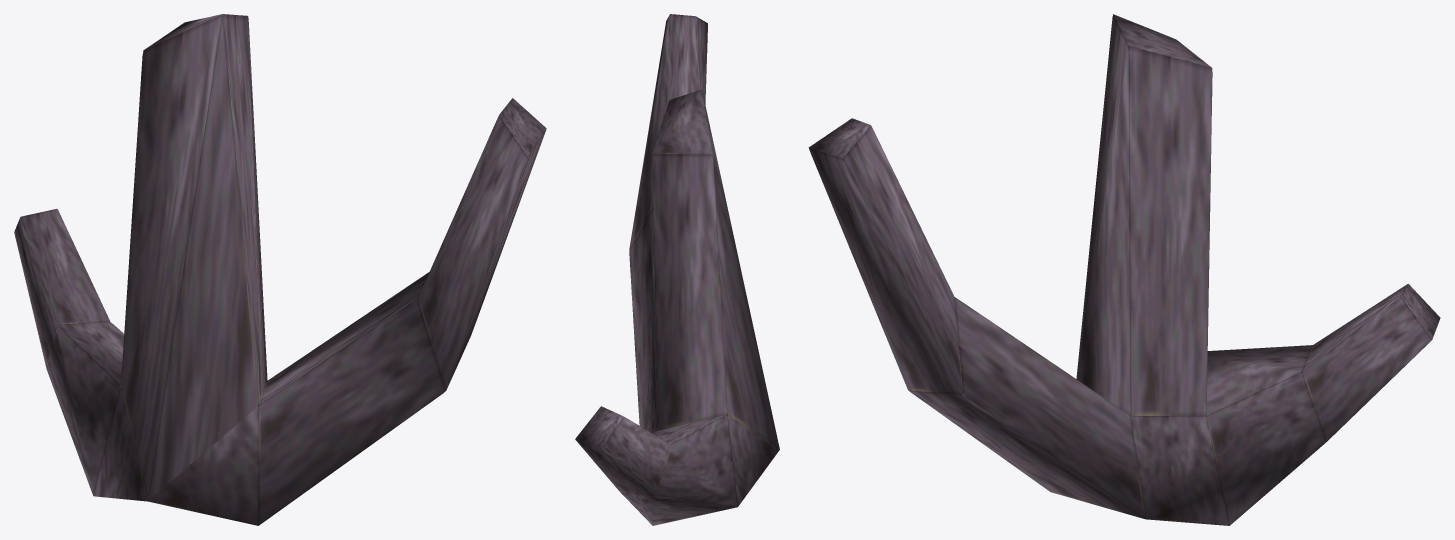
3 views of the same model, side by side, from view 1: azimuth 30°, elevation 25°; view 2: azimuth 150°, elevation 25°; view 3: azimuth 270°, elevation 25° (orthographic). The views are drawn at different scales.
Parts seen in each view (by area): view 1: T1L8M006_5; view 2: T1L8M006_5; view 3: T1L8M006_5.
Part boxes in pixels (x1,y1,x2,y2): T1L8M006_5: (14,14,546,525); T1L8M006_5: (575,14,779,525); T1L8M006_5: (808,14,1440,525).
Size of the model in its own units: 1.24 by 2.27 by 2.55.
